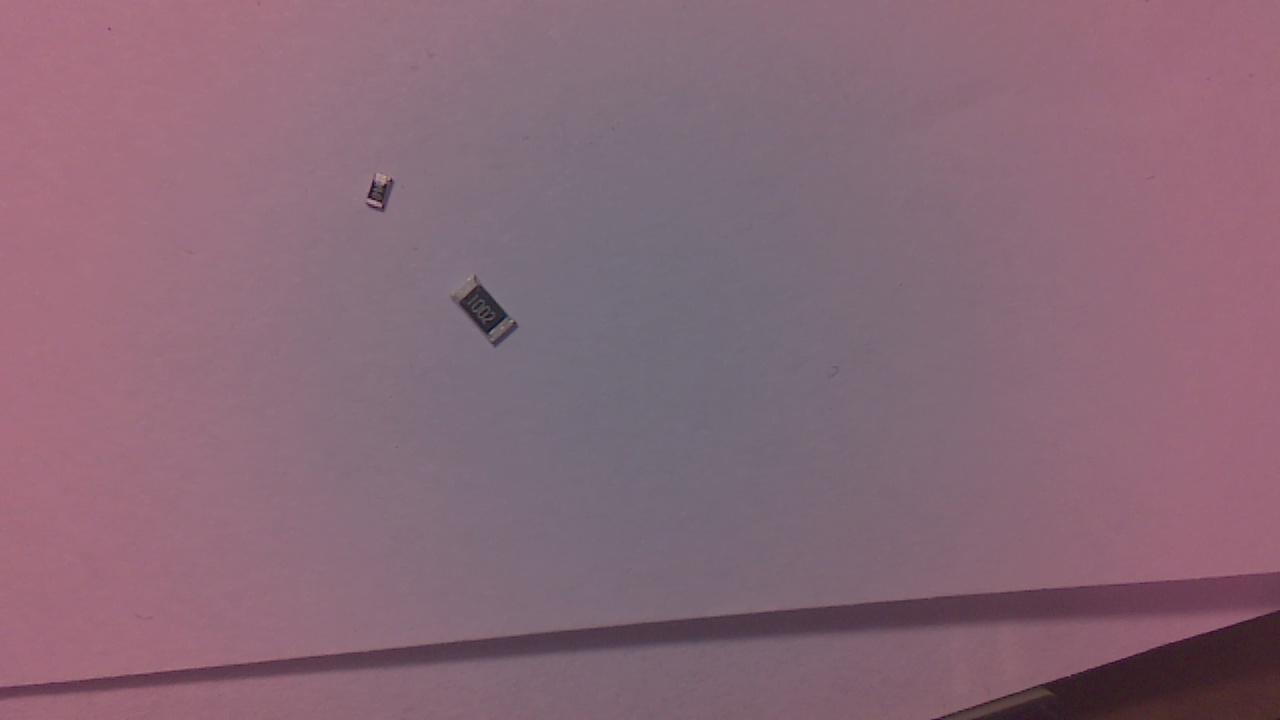Resistor: (451, 277, 522, 355), (369, 174, 401, 219)
